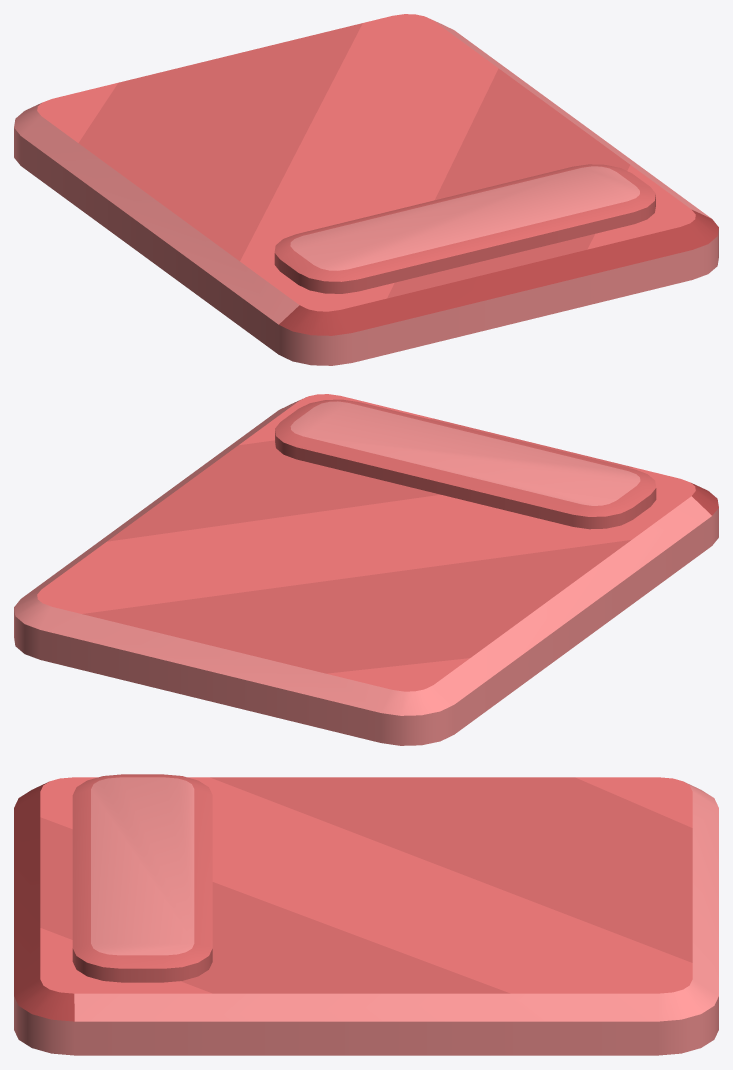
Rendered from Merge-4LvL.fbx.
3 renders of one model, top to bottom at view 1: azimuth 30°, elevation 25°; view 2: azimuth 150°, elevation 25°; view 3: azimuth 270°, elevation 25°, orthographic. The views are drawn at different scales.
Parts seen in each view (by area): view 1: Plane.008; view 2: Plane.008; view 3: Plane.008.
Boxes of the visible parts, x1,y1,x2,y2 form: Plane.008: (14, 14, 718, 365); Plane.008: (14, 394, 718, 745); Plane.008: (14, 774, 718, 1055).
Bounding box in the file's own units: 763 × 103 × 950.
